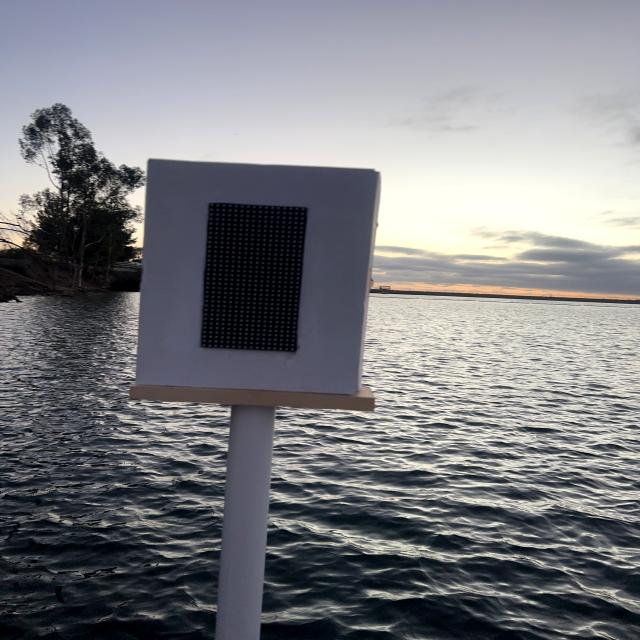led: (170, 174, 343, 378)
